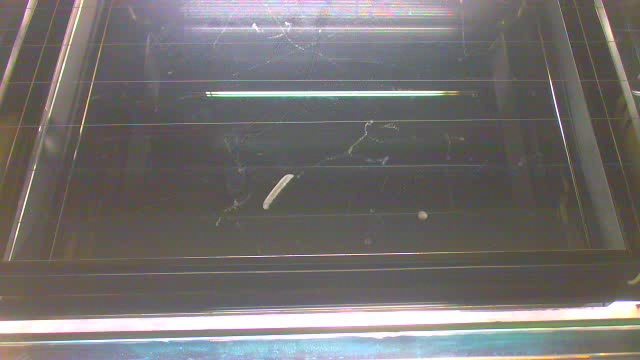Alfa: (262, 171, 297, 212), (416, 206, 429, 221)
